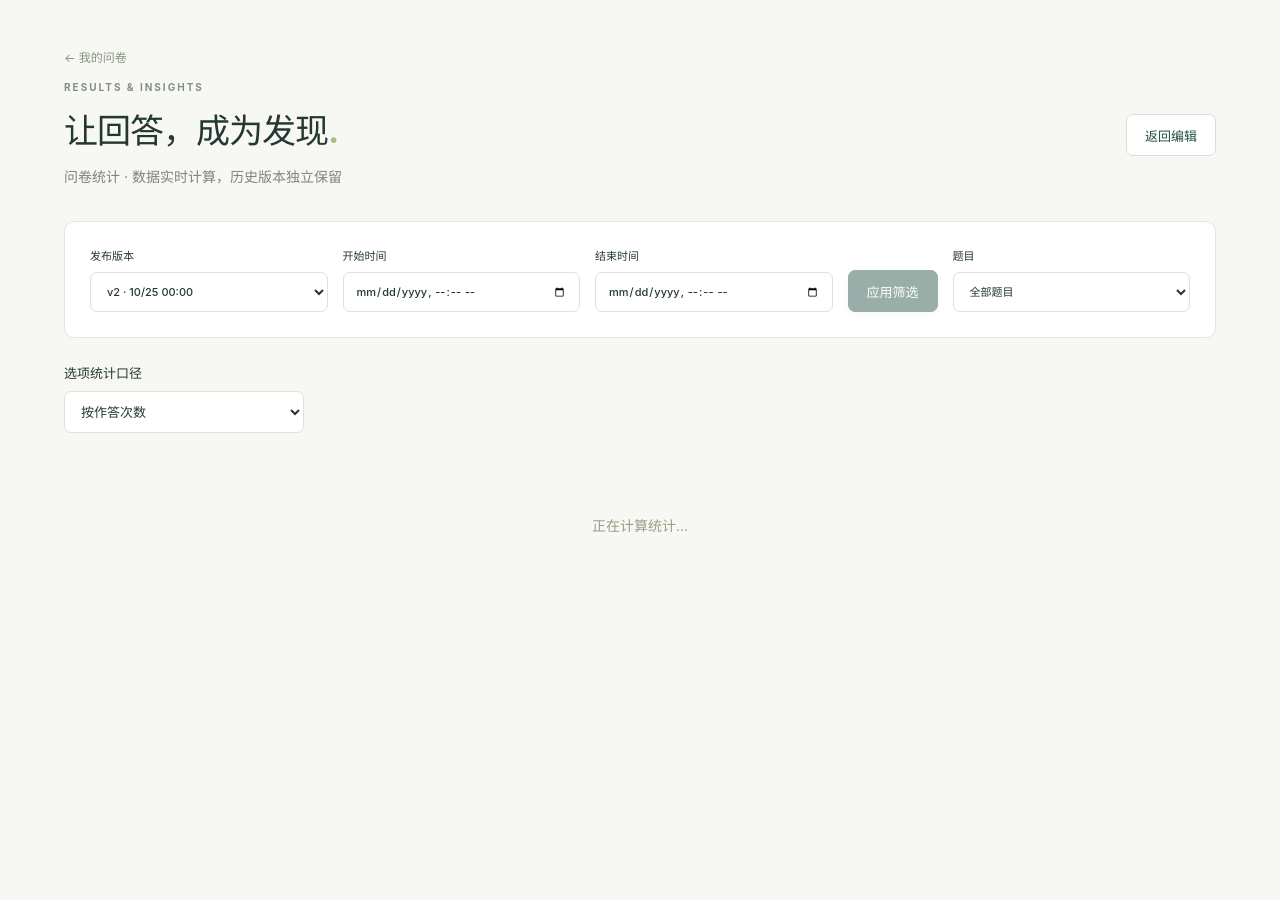
Test case: late old statistics must not overwrite the selected version
Select "v1 · 10/24 00:00" in the dropdown labelled "发布版本" at (209, 292), box [90,272,328,312]
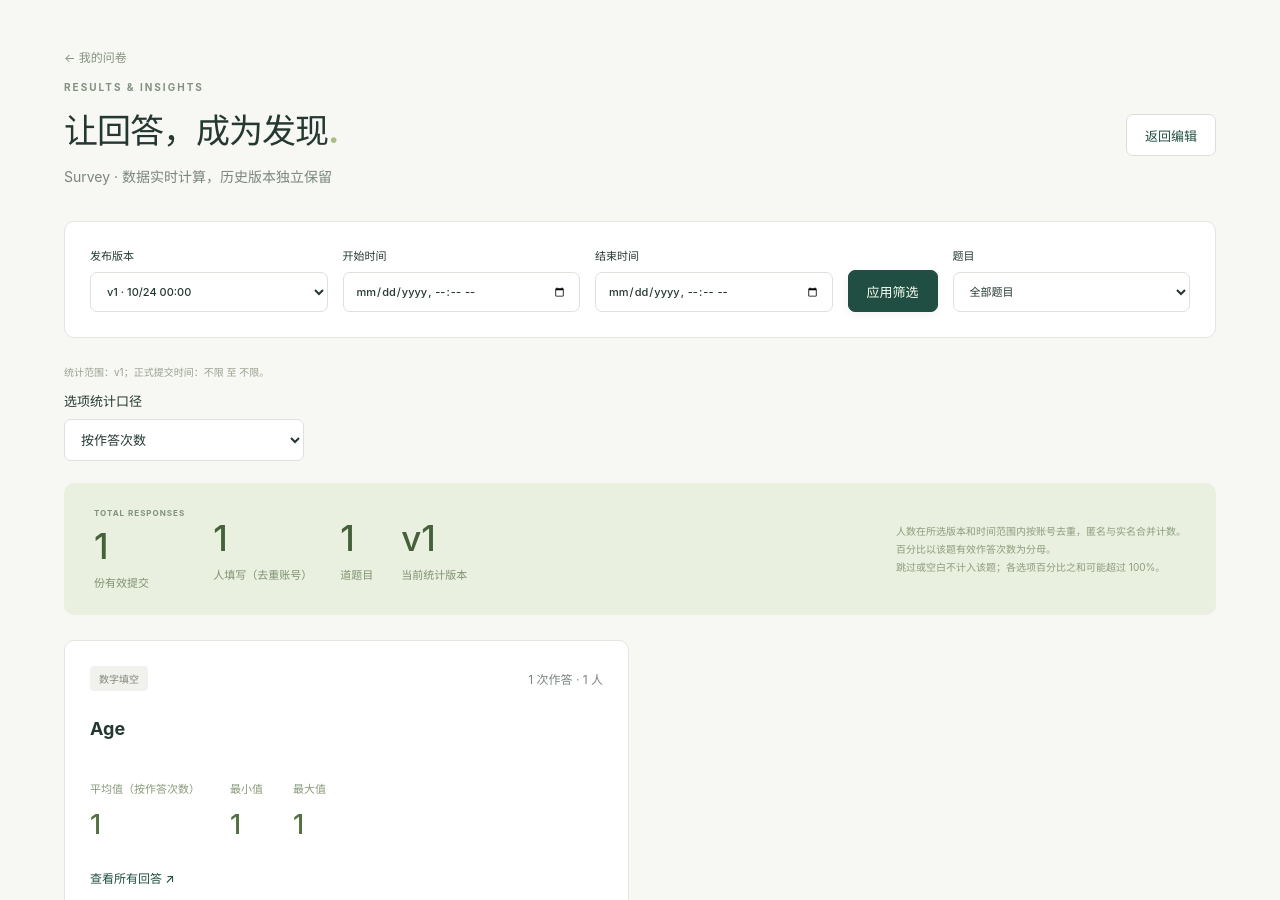
Check: the text "v1" is shown, box [64,366,269,378]
